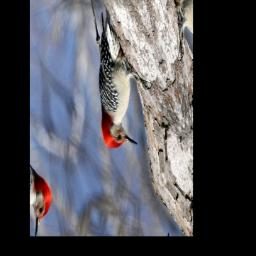Woodpecker: (65, 0, 168, 172)
